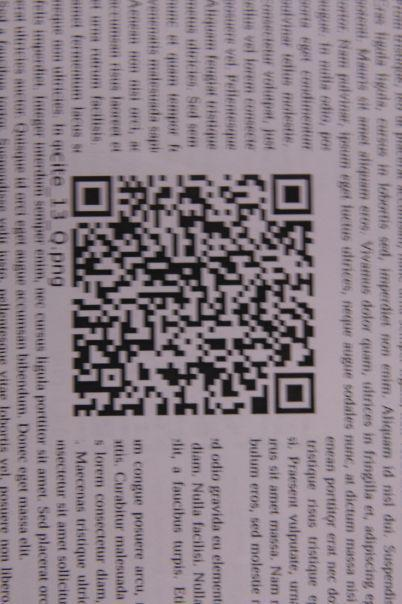qr_code: (71, 172, 315, 417)
